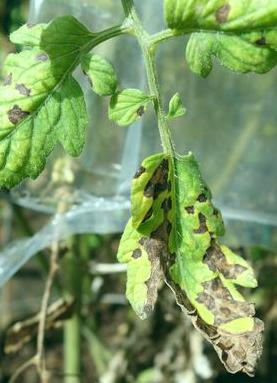Tomato Septoria leaf spot: (118, 145, 273, 383), (0, 12, 114, 209), (156, 0, 277, 79)
